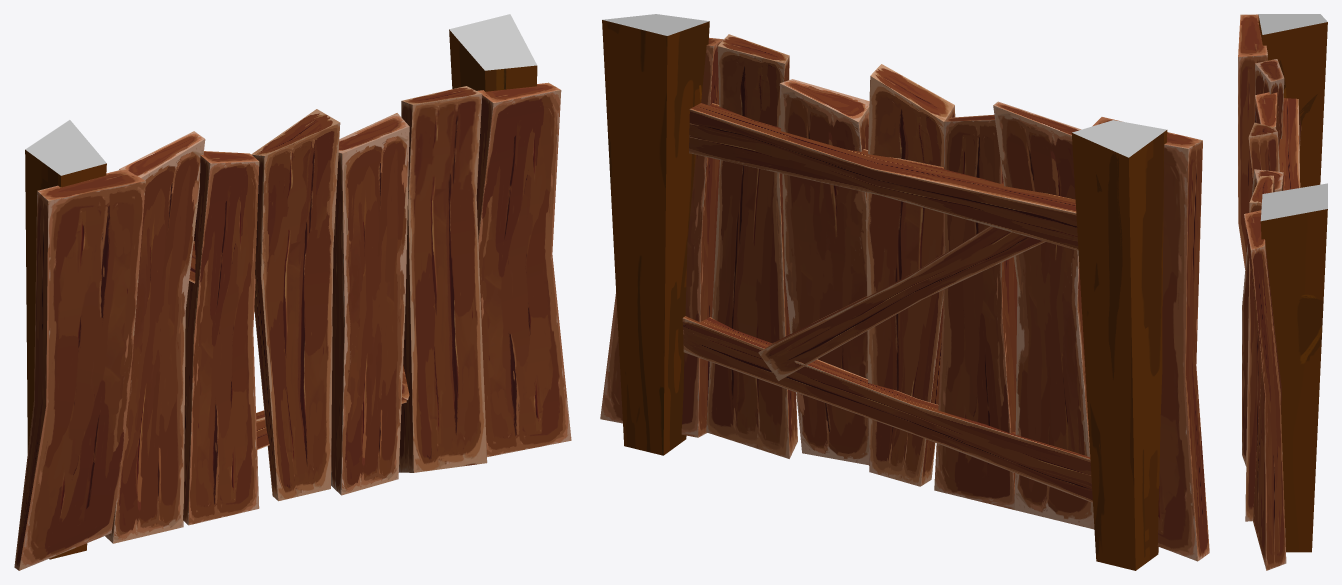
The model's file is SM_PROP_fence_v01_01.fbx.
3 views of the same model, side by side, from view 1: azimuth 30°, elevation 25°; view 2: azimuth 150°, elevation 25°; view 3: azimuth 270°, elevation 25° (orthographic). The views are drawn at different scales.
Parts seen in each view (by area): view 1: SM_PROP_fence_v01_01; view 2: SM_PROP_fence_v01_01; view 3: SM_PROP_fence_v01_01.
Part boxes in pixels (x1,y1,x2,y2): SM_PROP_fence_v01_01: [14, 14, 571, 570]; SM_PROP_fence_v01_01: [600, 14, 1209, 570]; SM_PROP_fence_v01_01: [1238, 14, 1327, 570].
Bounding box in the file's own units: 286 × 201 × 46.43.
